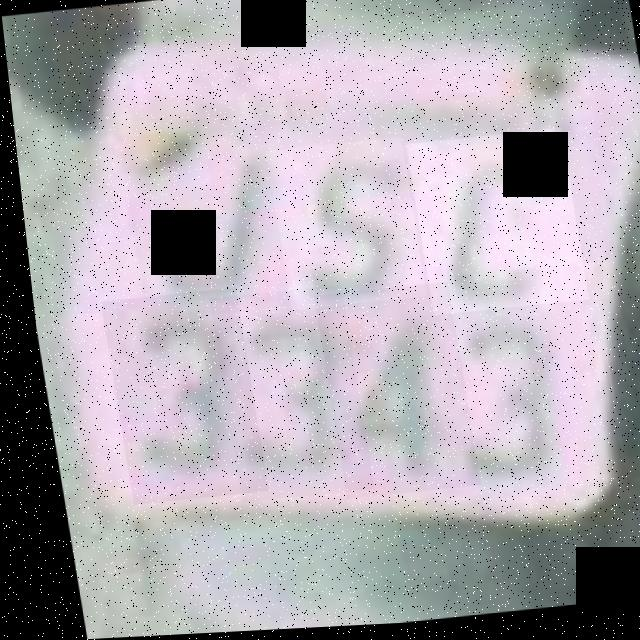3: (93, 289, 258, 506), (202, 288, 363, 505)
4: (306, 286, 470, 503)
J: (114, 124, 288, 323)
O: (402, 133, 582, 320)
S: (262, 141, 420, 313)
